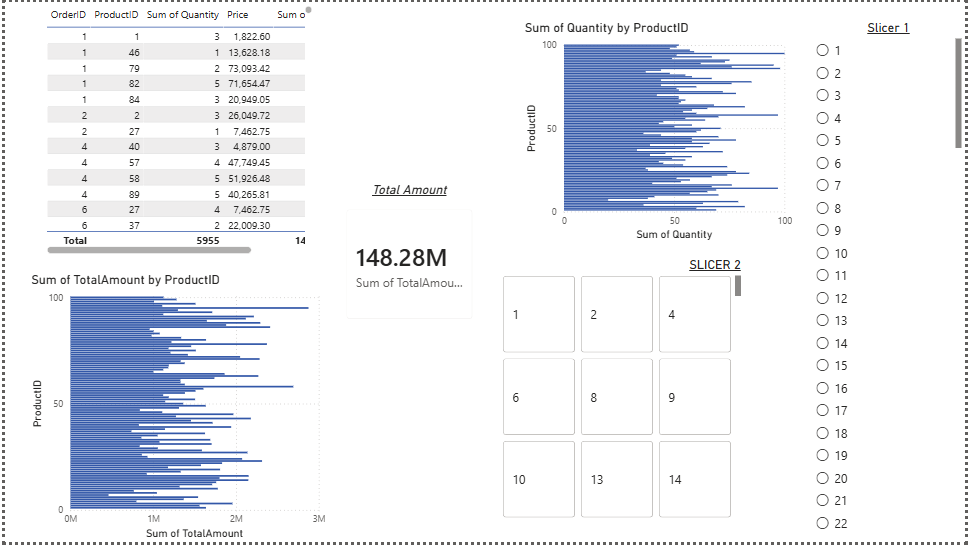

Layout of this report page (visuals, bound fields, positions):
{"tool":"powerbi","page":{"name":"Page 1","canvas":[1280,720],"ordinal":0},"visuals":[{"type":"cardVisual","title":"Total Amount","fields":{"Data":["Sum(ecommercedb orderitems.TotalAmount)"]},"box":[438,240,202,200],"z":0},{"type":"clusteredBarChart","fields":{"Category":["ecommercedb products.ProductID"],"Y":["Sum(ecommercedb orderitems.TotalAmount)"]},"box":[30,360,402,360],"z":1000},{"type":"clusteredBarChart","fields":{"Category":["ecommercedb products.ProductID"],"Y":["Sum(ecommercedb orderitems.Quantity)"]},"box":[688,24,366,298],"z":2000},{"type":"tableEx","fields":{"Values":["ecommercedb orderitems.OrderID","ecommercedb orderitems.ProductID","Sum(ecommercedb orderitems.Quantity)","ecommercedb products.Price","Sum(ecommercedb orderitems.TotalAmount)"]},"box":[50,0,364,340],"z":3000},{"type":"listSlicer","title":"Slicer 1","fields":{"Values":["ecommercedb orderitems.ProductID"]},"box":[1076,24,204,696],"z":4000},{"type":"advancedSlicerVisual","title":"SLICER 2","fields":{"Values":["ecommercedb orderitems.OrderID"]},"box":[658,340,328,352],"z":5000}]}

Visuals, with their boxes in screenshot pixels (x1, y1, x2, y2), scaled from the page's 1280x720 canvas onto the 976x547 screenshot:
"Total Amount" cardVisual: BBox(334, 182, 488, 334)
clusteredBarChart - ecommercedb products.ProductID x Sum(ecommercedb orderitems.TotalAmount): BBox(23, 274, 329, 546)
clusteredBarChart - ecommercedb products.ProductID x Sum(ecommercedb orderitems.Quantity): BBox(525, 18, 804, 245)
tableEx - ecommercedb orderitems.OrderID x ecommercedb orderitems.ProductID: BBox(38, 0, 316, 258)
"Slicer 1" listSlicer: BBox(820, 18, 975, 546)
"SLICER 2" advancedSlicerVisual: BBox(502, 258, 752, 526)
